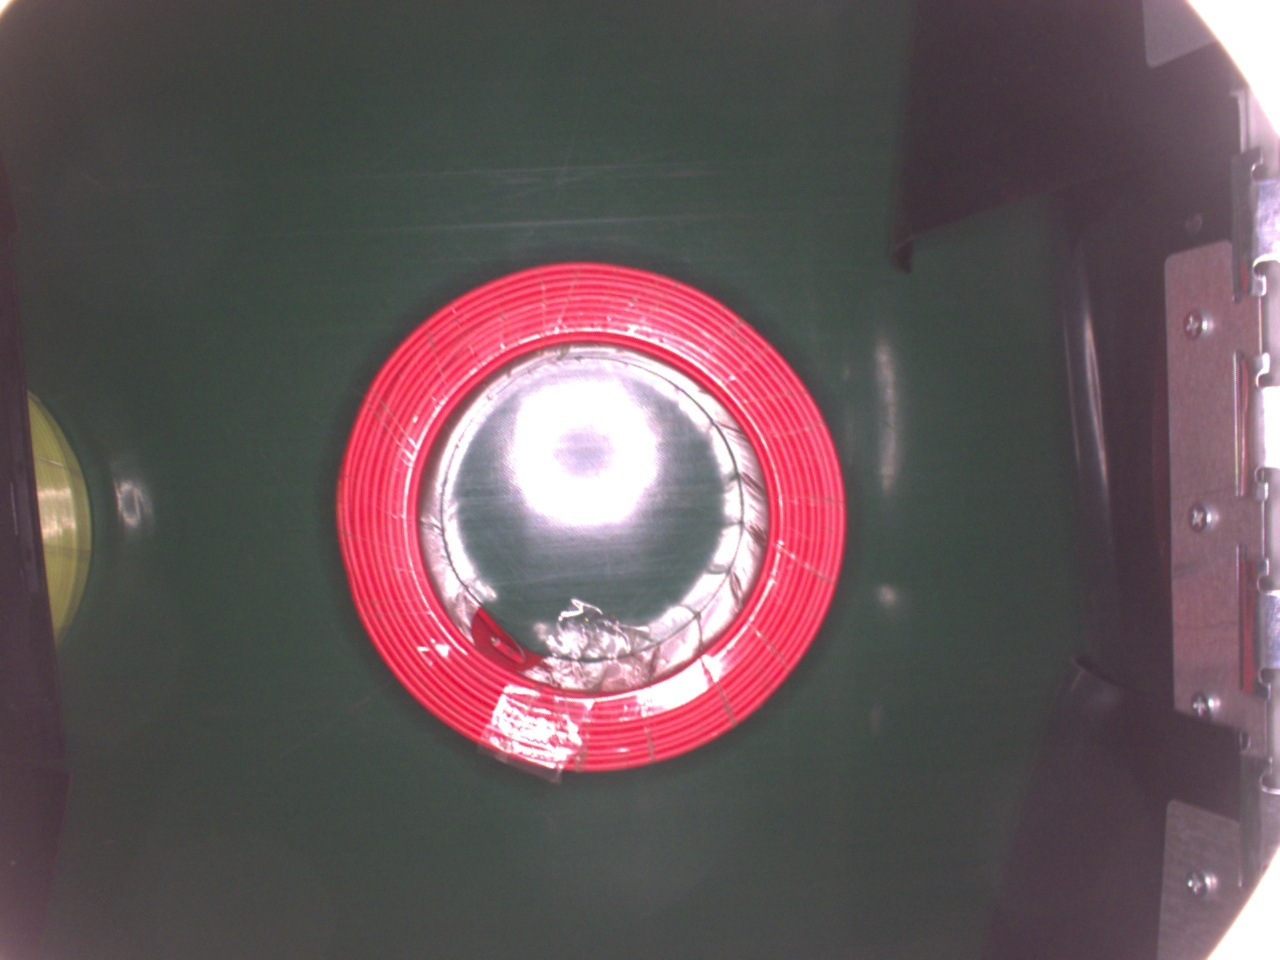red: (332, 259, 847, 775)
